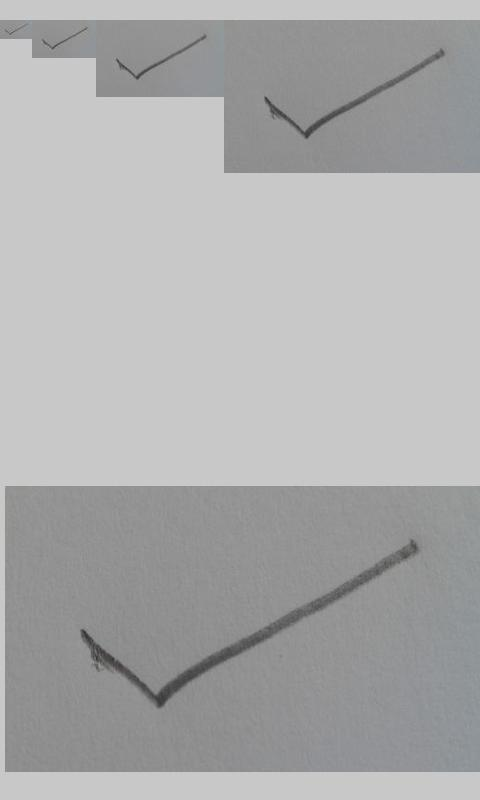check_box: (79, 540, 415, 708), (265, 49, 444, 139), (116, 34, 207, 80), (42, 27, 87, 50), (5, 23, 27, 35)
